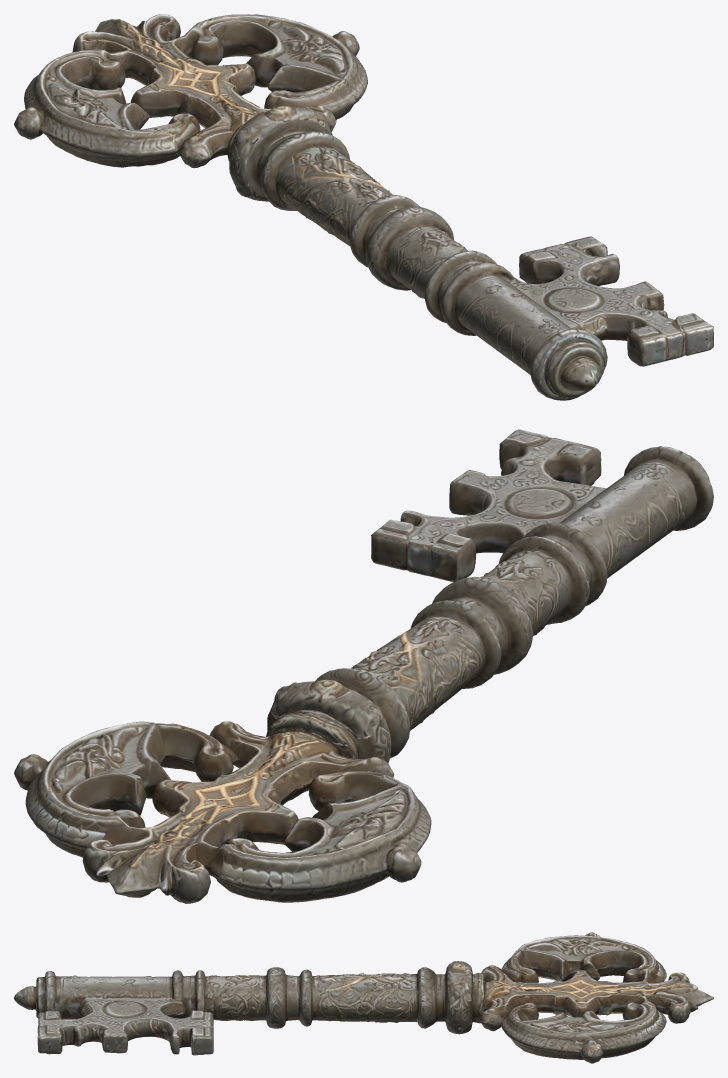
Rendered from MasterKey.fbx.
3 renders of one model, top to bottom at view 1: azimuth 30°, elevation 25°; view 2: azimuth 150°, elevation 25°; view 3: azimuth 270°, elevation 25°, orthographic. The views are drawn at different scales.
Visible parts, largest first — view 1: texture_mapping; view 2: texture_mapping; view 3: texture_mapping.
Part boxes in pixels (x1=…): texture_mapping: x1=14, y1=14, x2=713, y2=400; texture_mapping: x1=14, y1=429, x2=713, y2=903; texture_mapping: x1=14, y1=932, x2=713, y2=1063.
Bounding box in the file's own units: 0.3981 × 0.9975 × 0.1056.
Materials: 1 (1 with a texture image).
